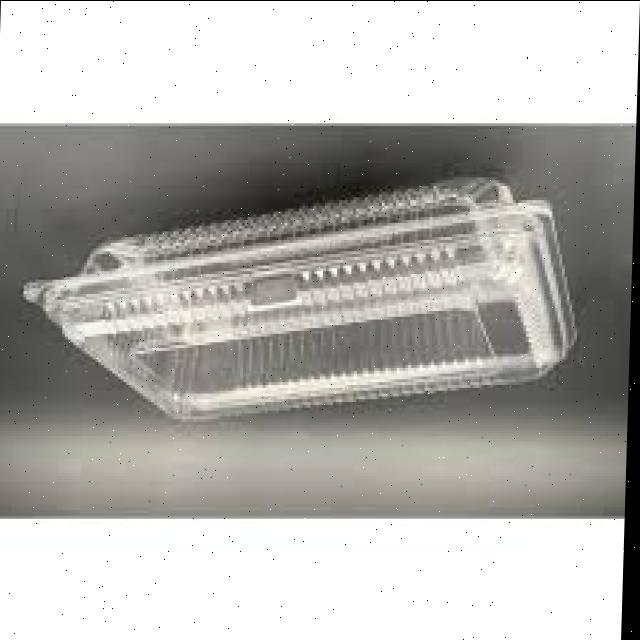disposable: (0, 139, 579, 450)
